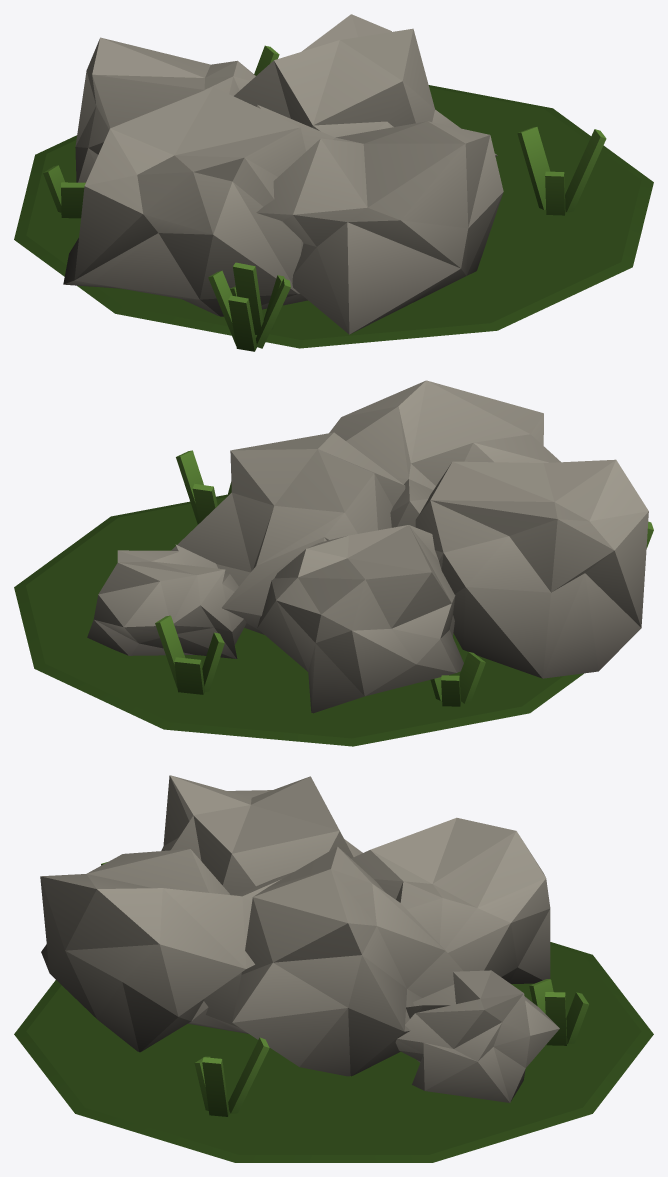
File: railway-rock-cluster.glb
3 views of the same model, one above another, from view 1: azimuth 30°, elevation 25°; view 2: azimuth 150°, elevation 25°; view 3: azimuth 270°, elevation 25° (orthographic). The views are drawn at different scales.
Visible parts, largest first — view 1: railway_rock_cluster; view 2: railway_rock_cluster; view 3: railway_rock_cluster.
Boxes of the visible parts, bbox=[...] form: railway_rock_cluster: bbox=[14, 14, 653, 351]; railway_rock_cluster: bbox=[14, 380, 653, 746]; railway_rock_cluster: bbox=[14, 775, 653, 1162].
Bounding box in the file's own units: 2.29 × 0.6716 × 2.29.
